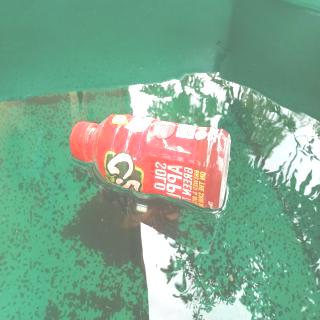bottle: (69, 112, 232, 211)
